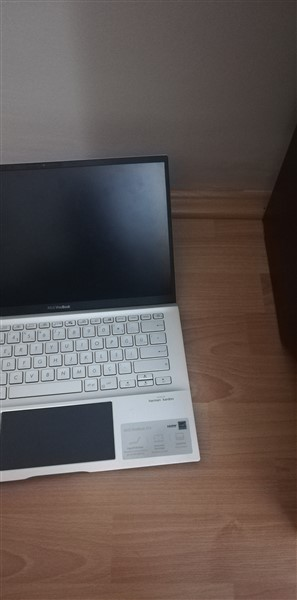laptop: (1, 145, 208, 482)
